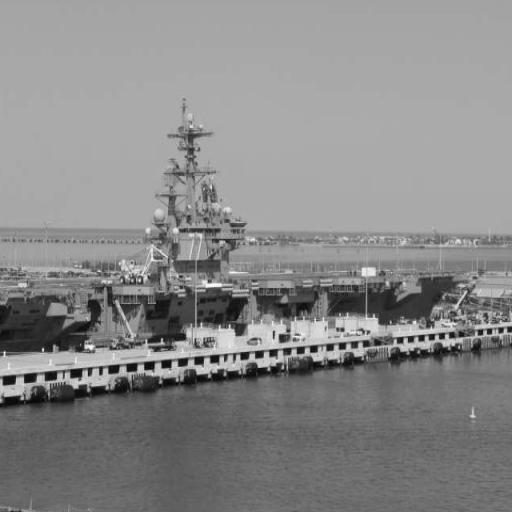Portanaves: (1, 74, 475, 373)
